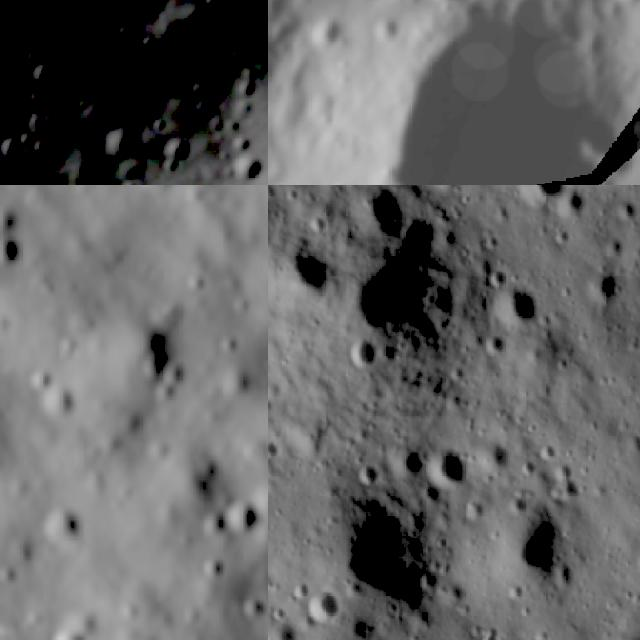crater: (332, 0, 640, 185), (325, 490, 451, 624), (114, 322, 208, 422), (341, 246, 446, 333), (502, 504, 568, 584), (277, 230, 335, 304), (24, 371, 92, 433), (29, 496, 95, 559), (213, 487, 268, 547), (303, 3, 356, 55), (360, 185, 412, 236), (491, 282, 545, 330), (35, 606, 106, 640), (388, 435, 436, 483), (431, 438, 476, 489), (186, 544, 233, 589), (114, 185, 205, 207), (304, 580, 344, 630), (0, 223, 36, 277), (18, 359, 60, 404), (0, 191, 34, 246), (226, 144, 268, 185), (344, 332, 386, 373), (581, 263, 623, 304), (232, 585, 268, 630), (515, 185, 569, 214), (481, 435, 515, 478), (0, 112, 18, 172), (612, 192, 640, 225), (482, 333, 514, 359), (566, 185, 589, 221)
